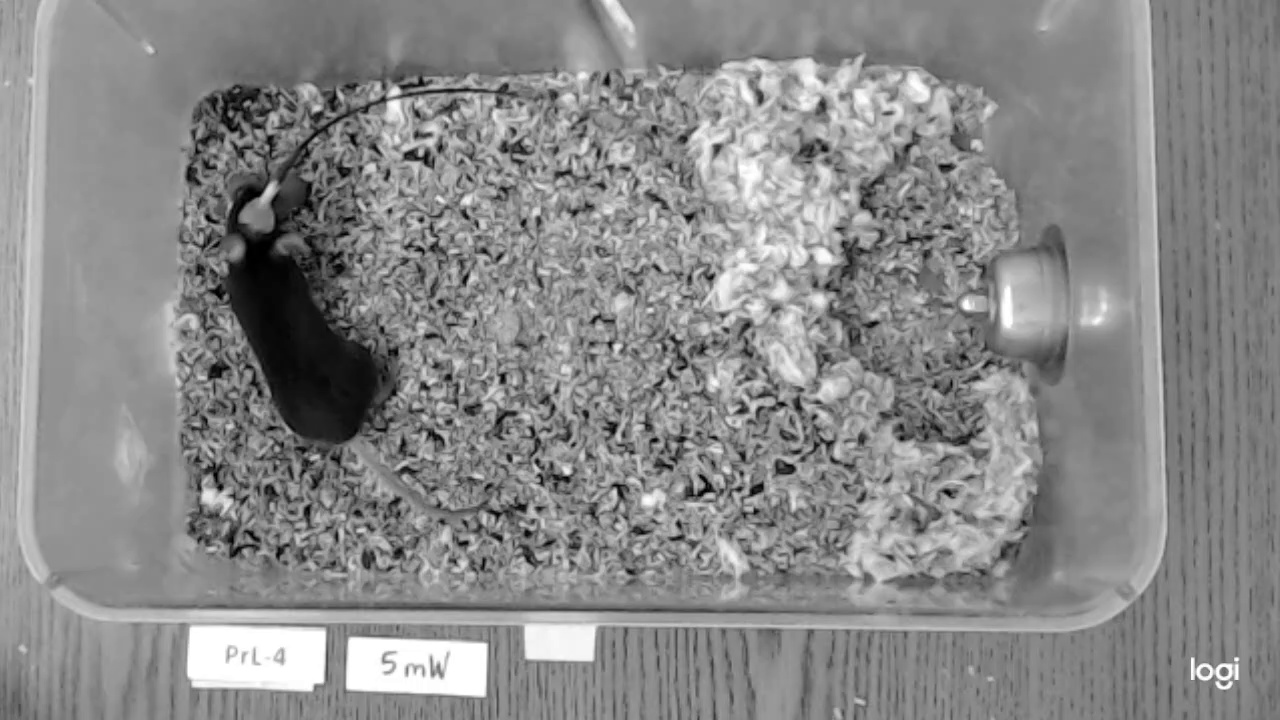parent-mice: (224, 183, 378, 450)
